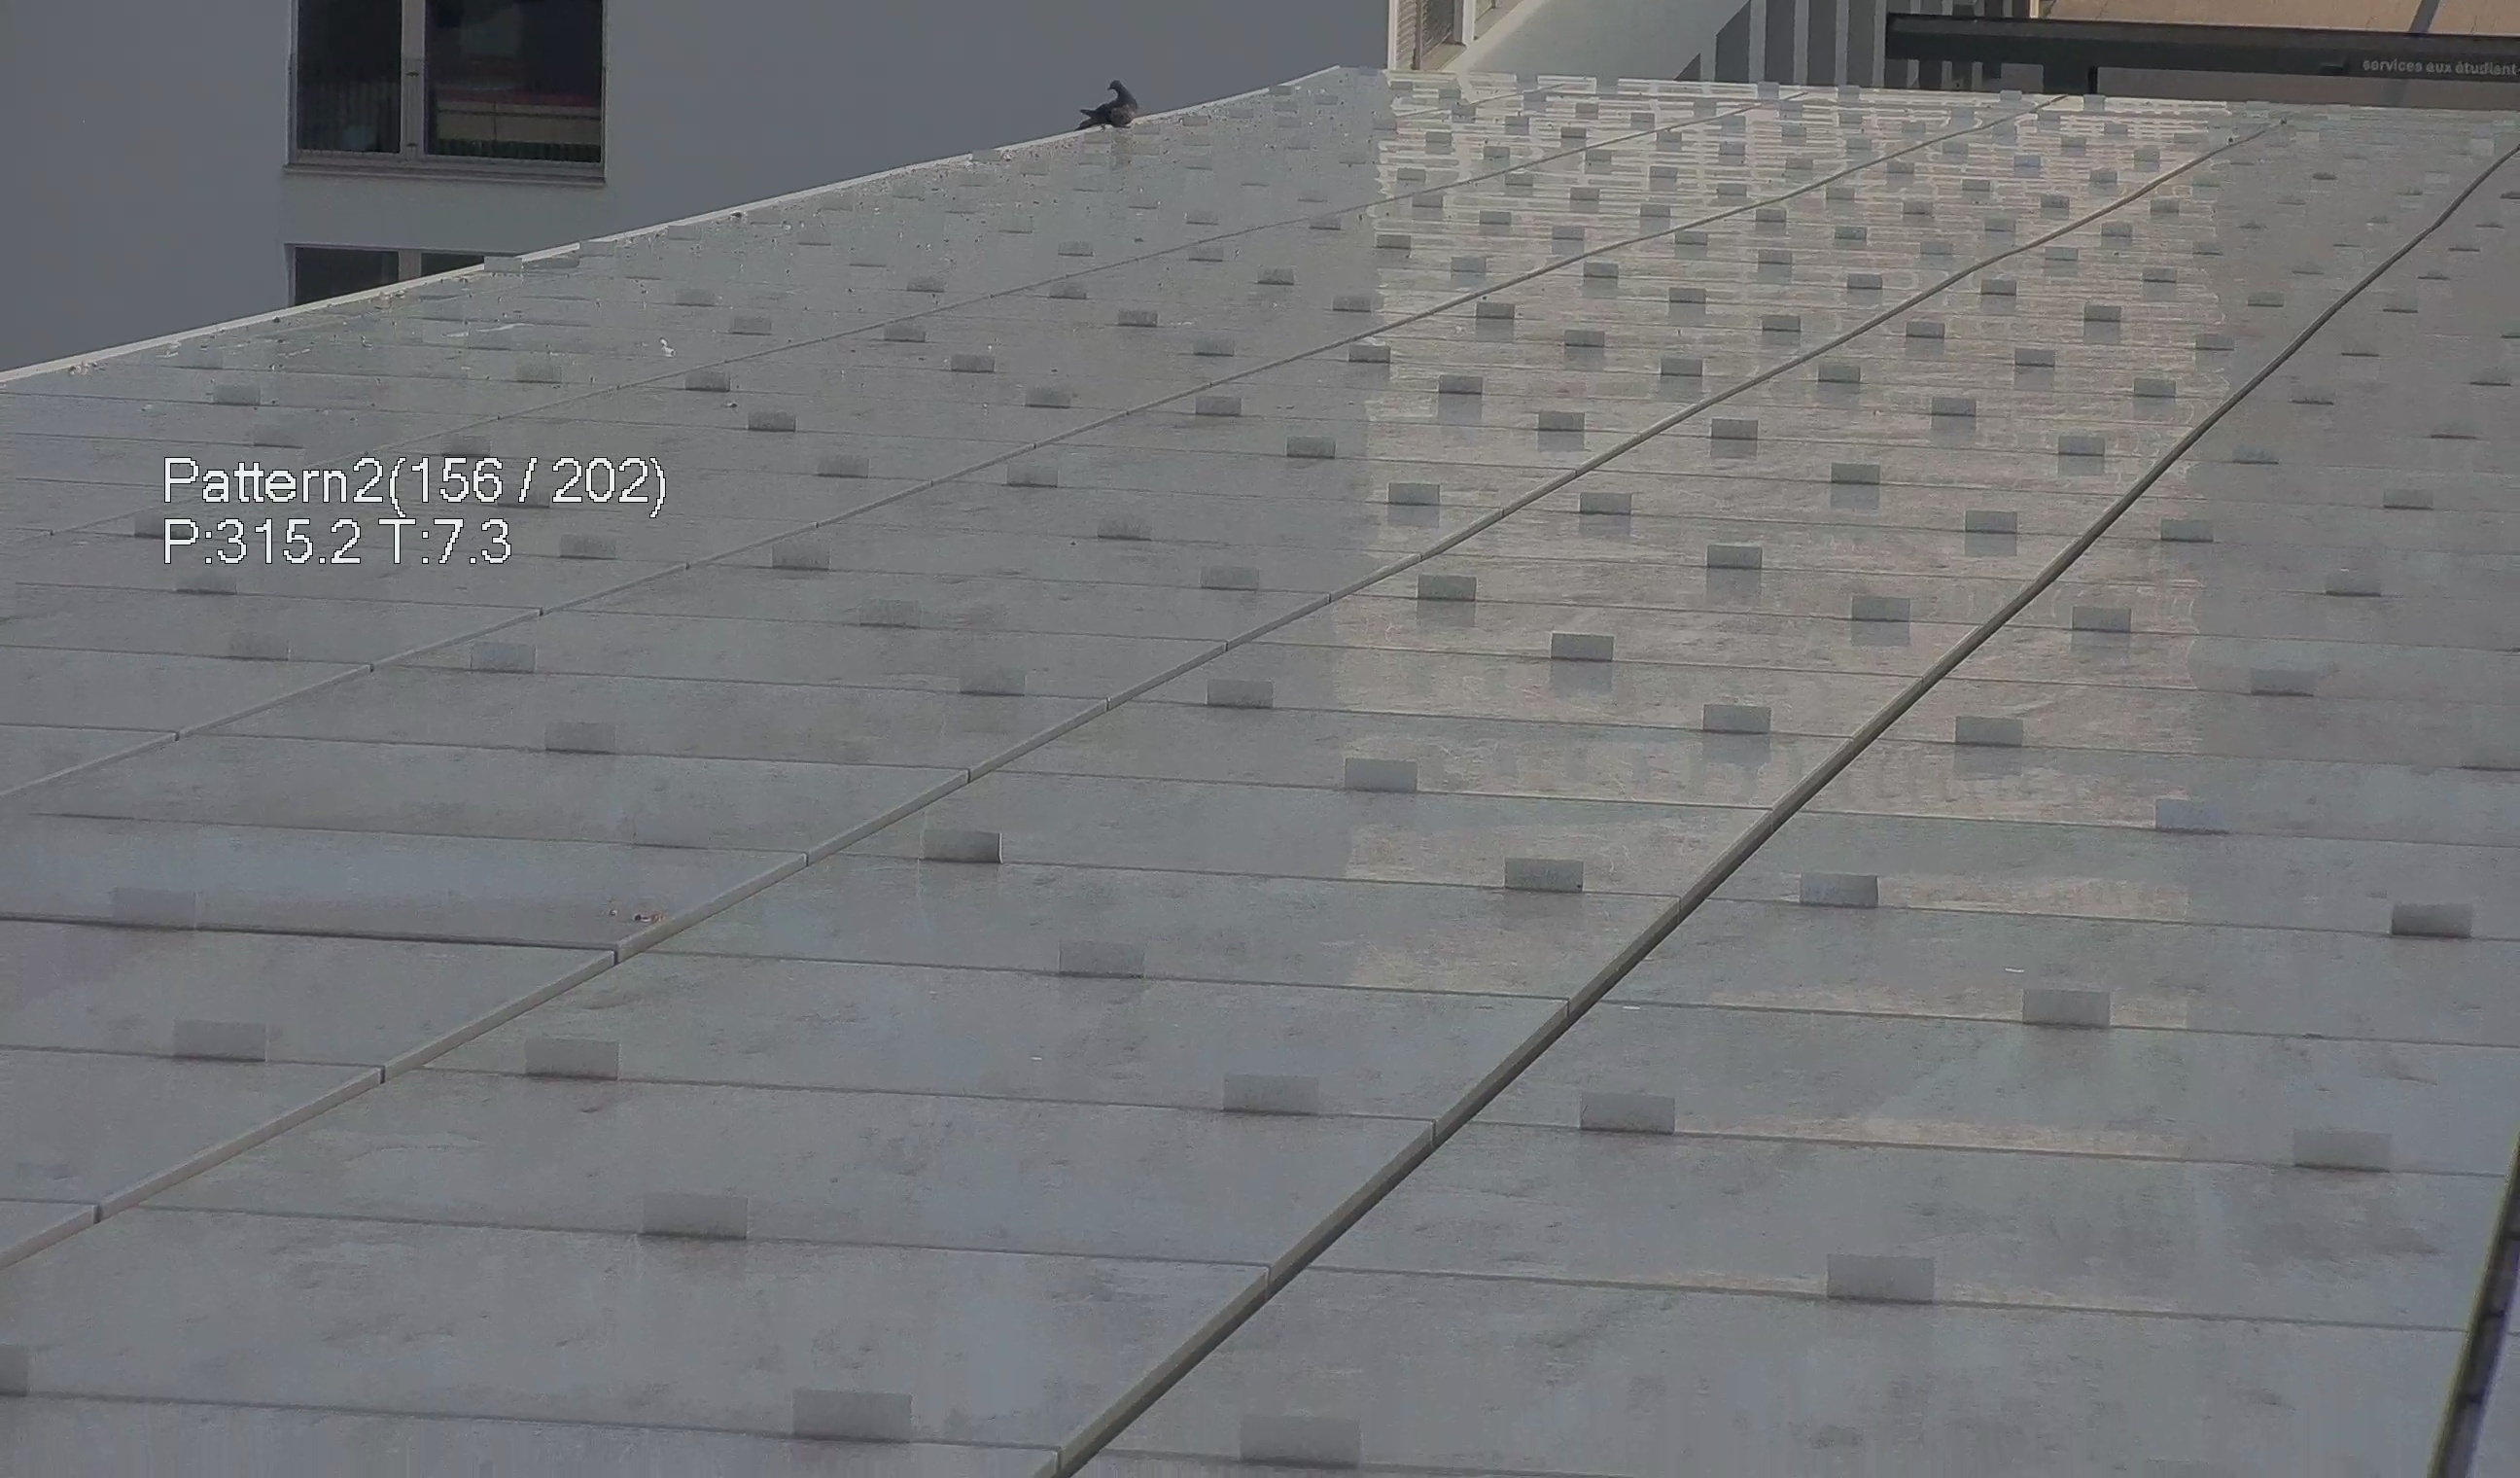Pigeon: (1078, 60, 1143, 134)
